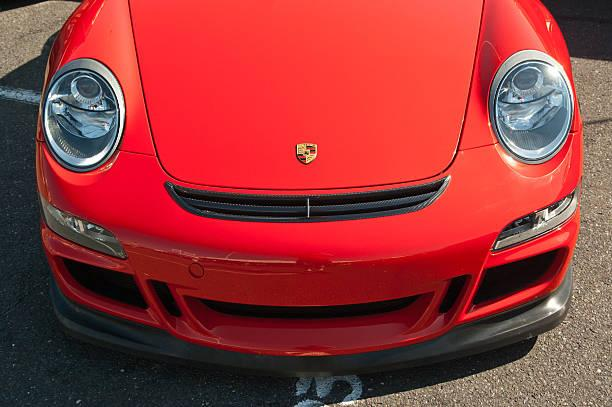porsche: (292, 137, 324, 170)
